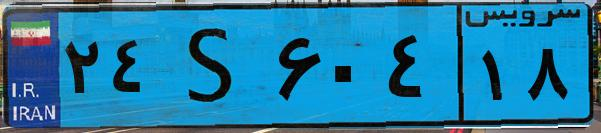0: (330, 28, 385, 110)
1: (475, 38, 525, 113)
2: (57, 26, 110, 100)
4: (385, 28, 445, 110), (110, 28, 158, 98)
6: (270, 28, 330, 110)
8: (525, 38, 570, 115)
S: (158, 12, 270, 120)
